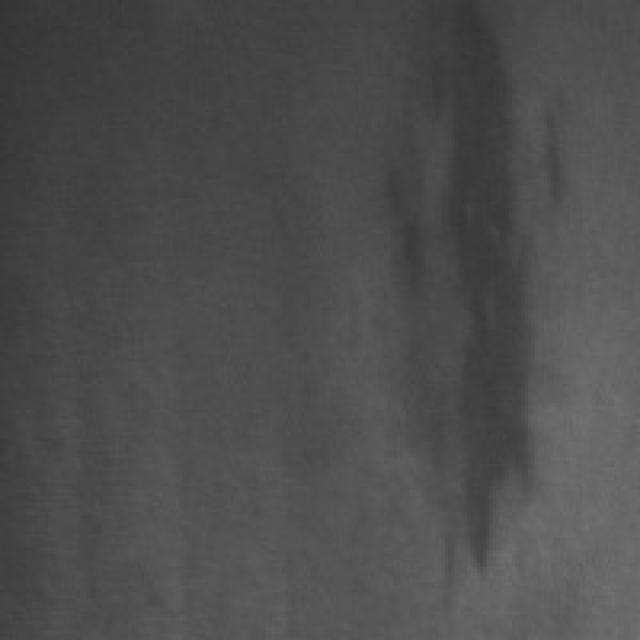inclusion: (391, 0, 557, 582)
